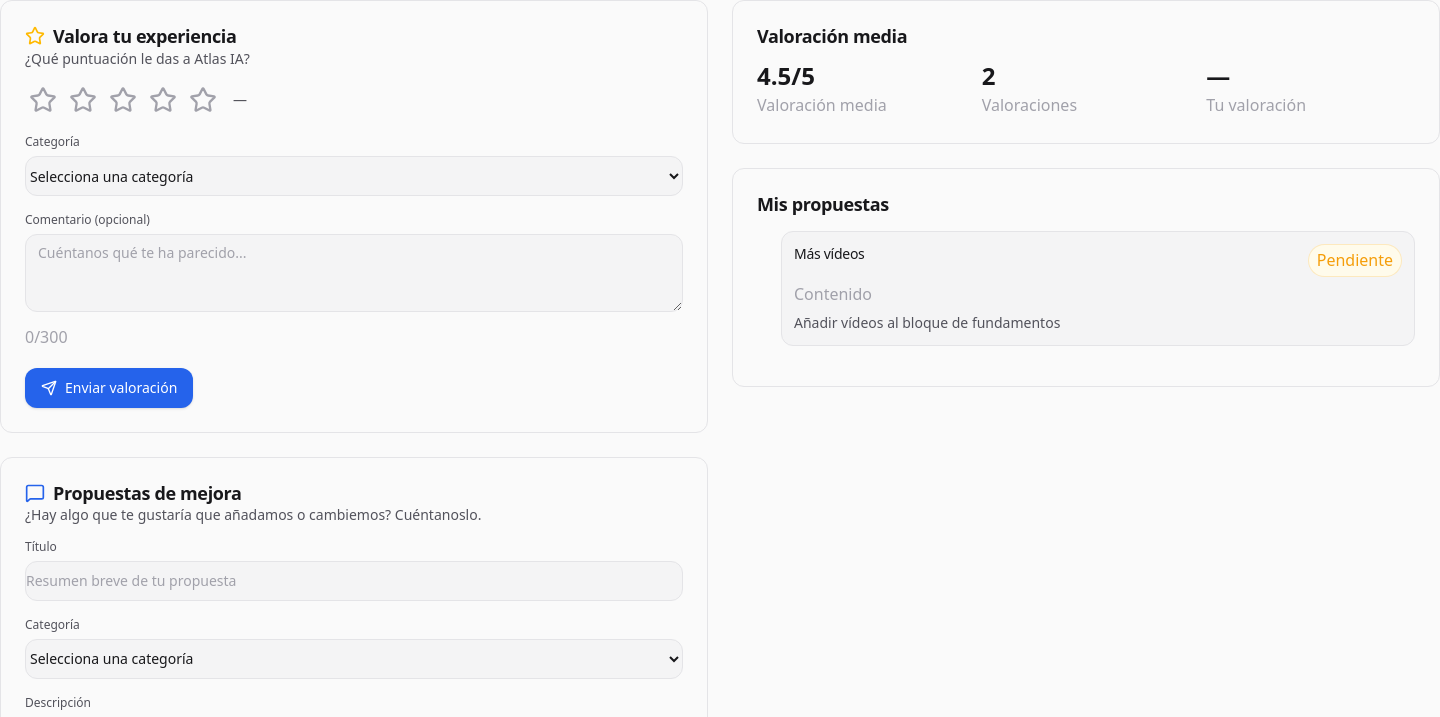
Test case: ValoracionContent › envía la valoración y muestra confirmación
Click the button named "Puntuación de 4 sobre 5" at x=163, y=100, box [145,82,181,118]
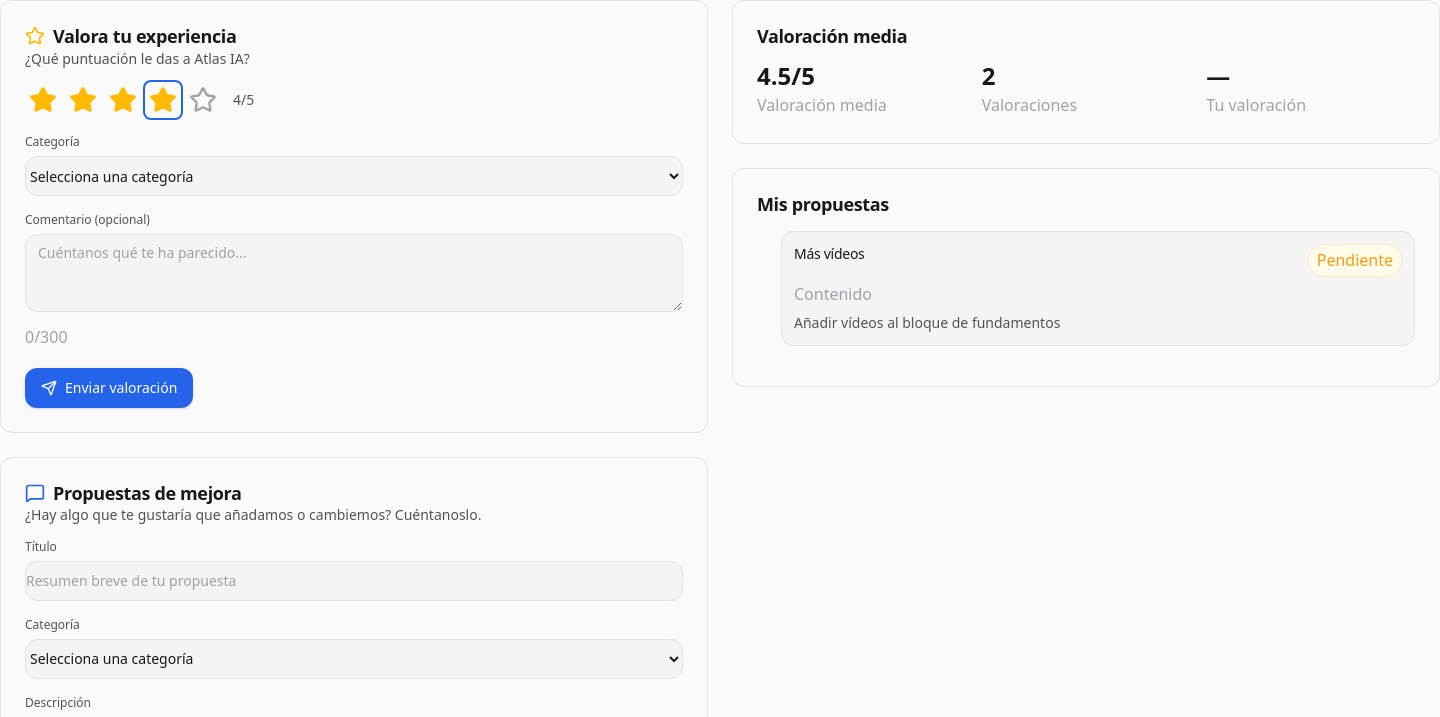
Click the button "Enviar valoración" at x=109, y=388, box [25,368,193,408]
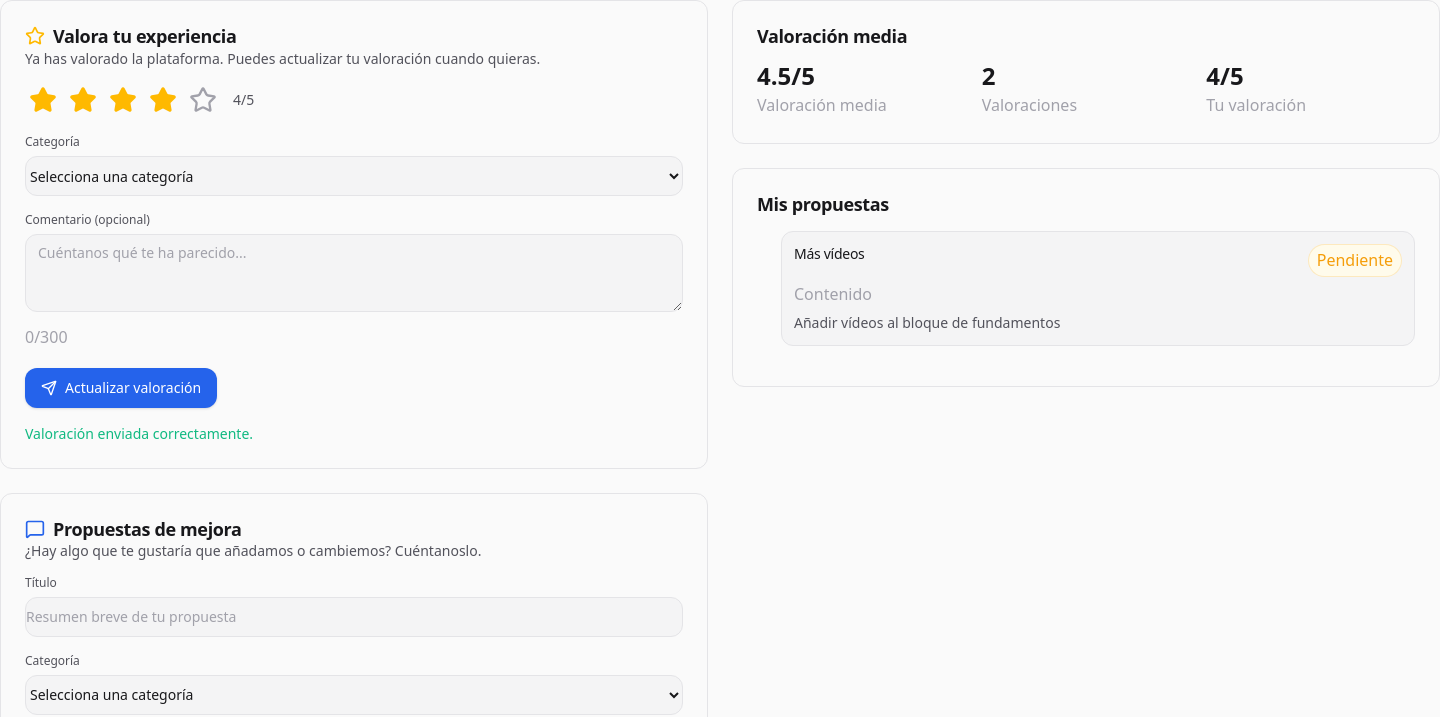
Expected: the text "Valoración enviada correctamente." is shown, [25,424,253,443]
